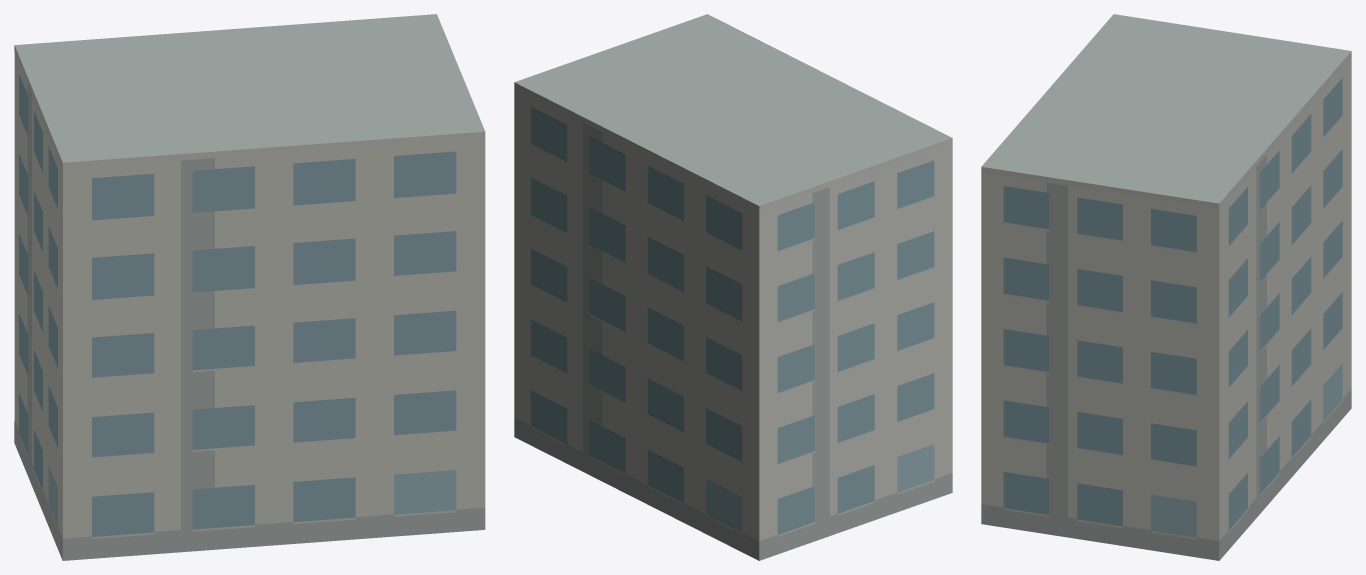
The model's file is residential-88b60946-98c6-4a60-8556-4d0060045caf.glb.
The picture shows the model from 3 angles, left to right: view 1: azimuth 30°, elevation 25°; view 2: azimuth 150°, elevation 25°; view 3: azimuth 270°, elevation 25°; orthographic projection. The views are drawn at different scales.
Parts seen in each view (by area): view 1: residential-88b60946-98c6-4a60-8556-4d0060045caf.tmp; view 2: residential-88b60946-98c6-4a60-8556-4d0060045caf.tmp; view 3: residential-88b60946-98c6-4a60-8556-4d0060045caf.tmp.
Boxes of the visible parts, left/top/right/bottom form: residential-88b60946-98c6-4a60-8556-4d0060045caf.tmp: left=14, top=14, right=485, bottom=560; residential-88b60946-98c6-4a60-8556-4d0060045caf.tmp: left=514, top=14, right=952, bottom=560; residential-88b60946-98c6-4a60-8556-4d0060045caf.tmp: left=981, top=14, right=1351, bottom=560.
Size of the model in its own units: 17.36 by 15.25 by 14.34.
